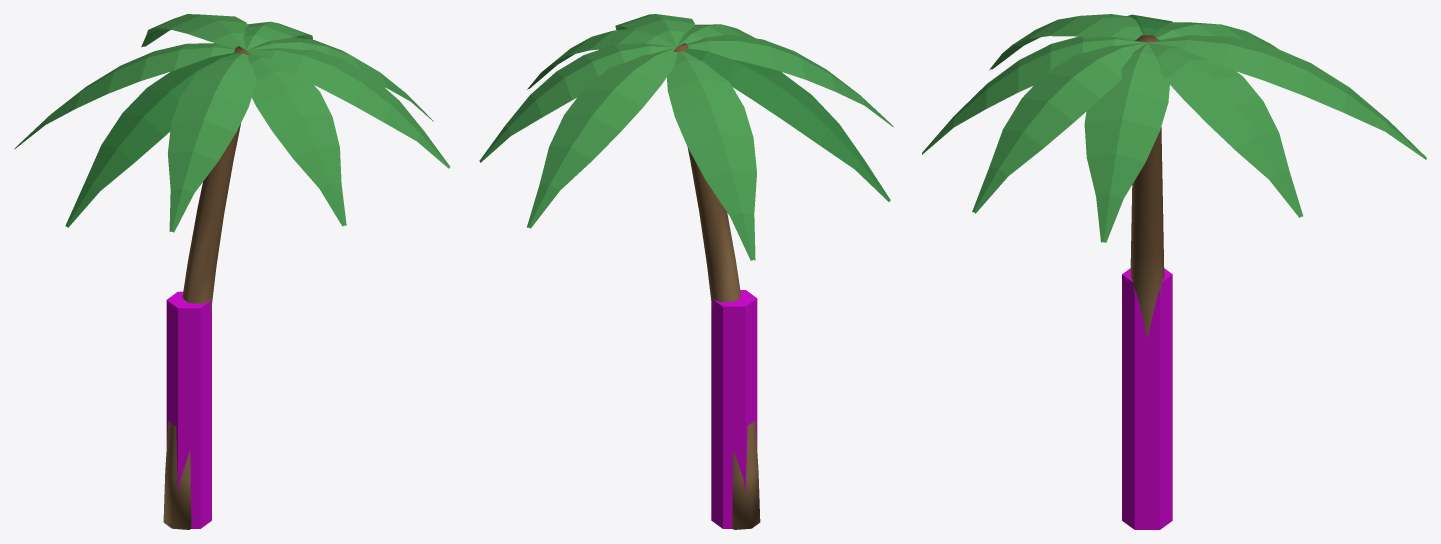
File: palm_a-BN-Hxc35.glb
3 views of the same model, side by side, from view 1: azimuth 30°, elevation 25°; view 2: azimuth 150°, elevation 25°; view 3: azimuth 270°, elevation 25° (orthographic). The views are drawn at different scales.
Parts seen in each view (by area): view 1: palm_a, COLP_palm_a; view 2: palm_a, COLP_palm_a; view 3: palm_a, COLP_palm_a.
Boxes of the visible parts, x1,y1,x2,y2 form: palm_a: (14,14,449,529); COLP_palm_a: (166,291,211,528); palm_a: (479,14,893,529); COLP_palm_a: (711,290,757,528); palm_a: (922,14,1426,338); COLP_palm_a: (1122,268,1172,529).
Size of the model in its own units: 5.18 by 6.26 by 5.57.
